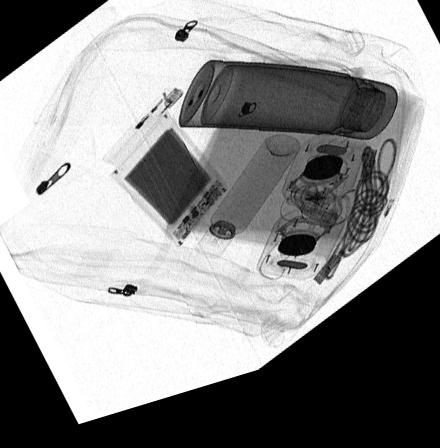Lighter: (100, 93, 184, 176)
Powerbank: (108, 120, 229, 260)
Sprayer: (194, 150, 302, 275)
